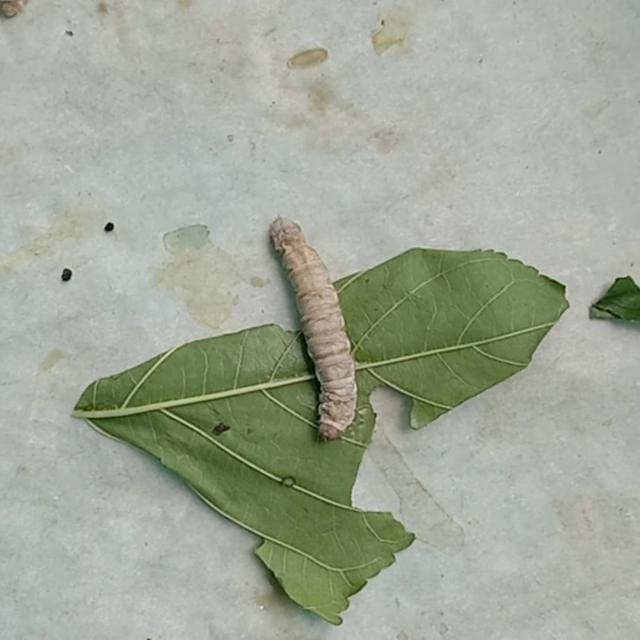Grasserie: (256, 205, 375, 448)
